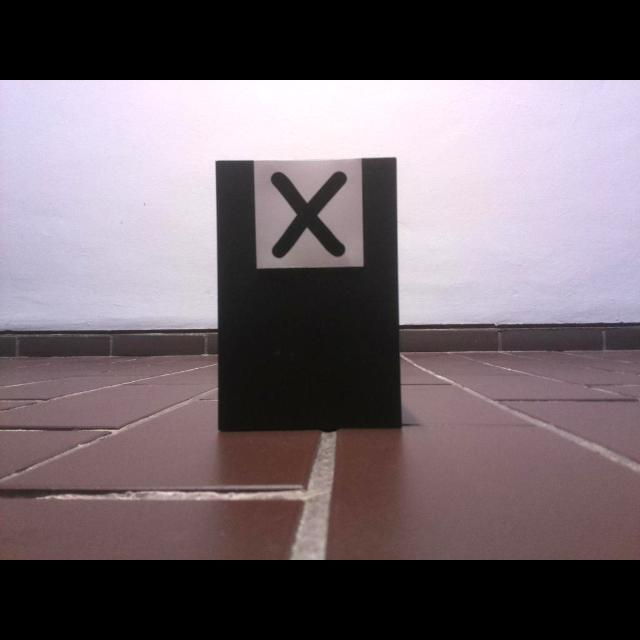X: (270, 171, 348, 259)
